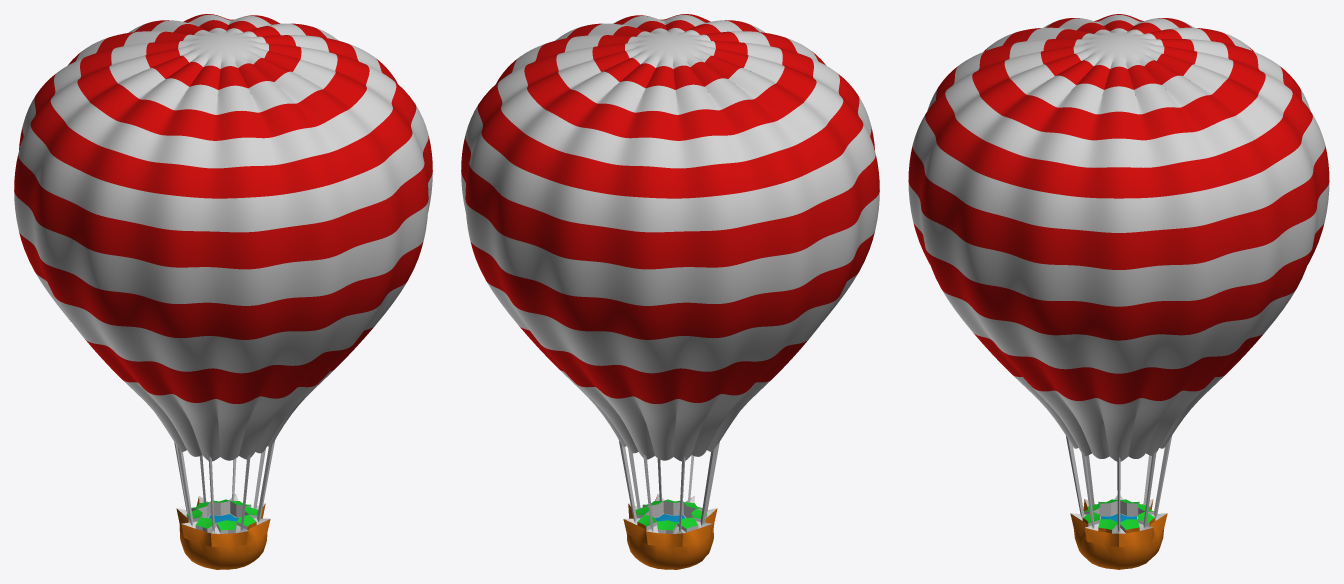
The model's file is ballon.obj.
The picture shows the model from 3 angles, left to right: view 1: azimuth 30°, elevation 25°; view 2: azimuth 150°, elevation 25°; view 3: azimuth 270°, elevation 25°; orthographic projection.
Parts seen in each view (by area): view 1: Sphere; view 2: Sphere; view 3: Sphere.
Part boxes in pixels (x1,y1,x2,y2): Sphere: (14, 14, 432, 569); Sphere: (461, 14, 879, 569); Sphere: (908, 14, 1329, 569).
Bounding box in the file's own units: 2.13 × 2.91 × 2.13.
